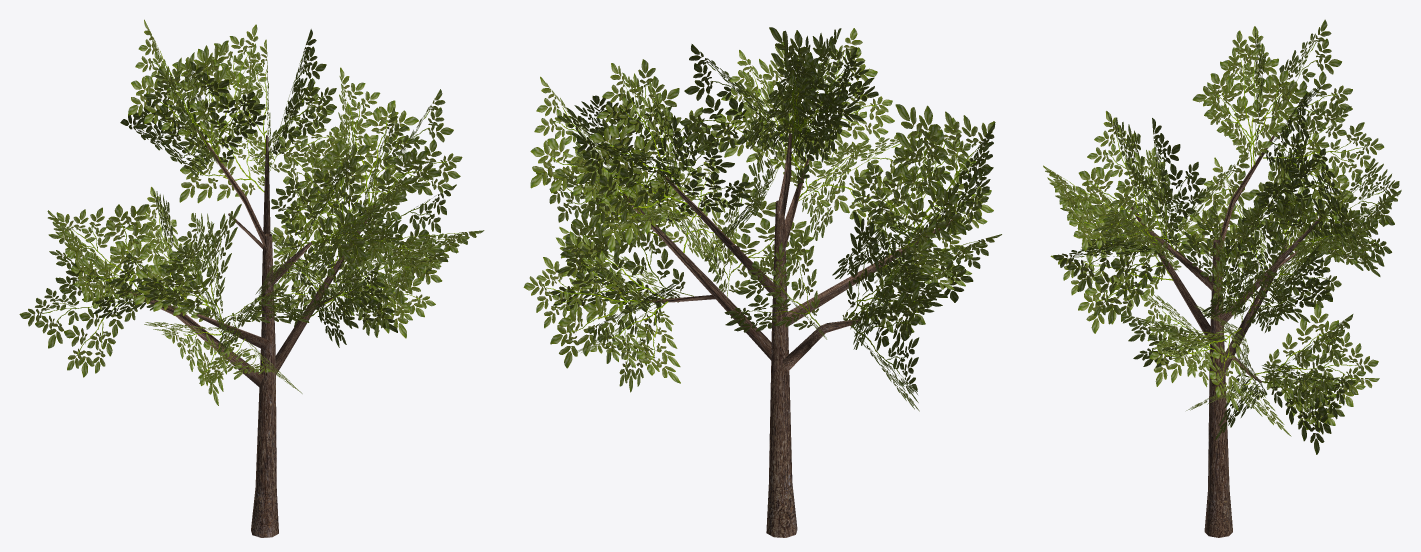
Rendered from Tree-B-04.fbx.
The picture shows the model from 3 angles, left to right: view 1: azimuth 30°, elevation 25°; view 2: azimuth 150°, elevation 25°; view 3: azimuth 270°, elevation 25°; orthographic projection. The views are drawn at different scales.
Visible parts, largest first — view 1: Tree-B-04; view 2: Tree-B-04; view 3: Tree-B-04.
Part boxes in pixels (x1,y1,x2,y2): Tree-B-04: (19, 19, 484, 537); Tree-B-04: (523, 27, 1001, 537); Tree-B-04: (1043, 19, 1401, 537).
Size of what is drawn, in the model's own units: 13.63 by 16.08 by 11.06.
